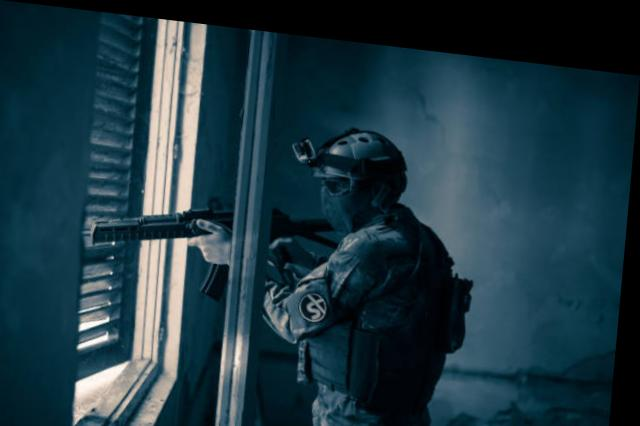other: (253, 110, 480, 424)
